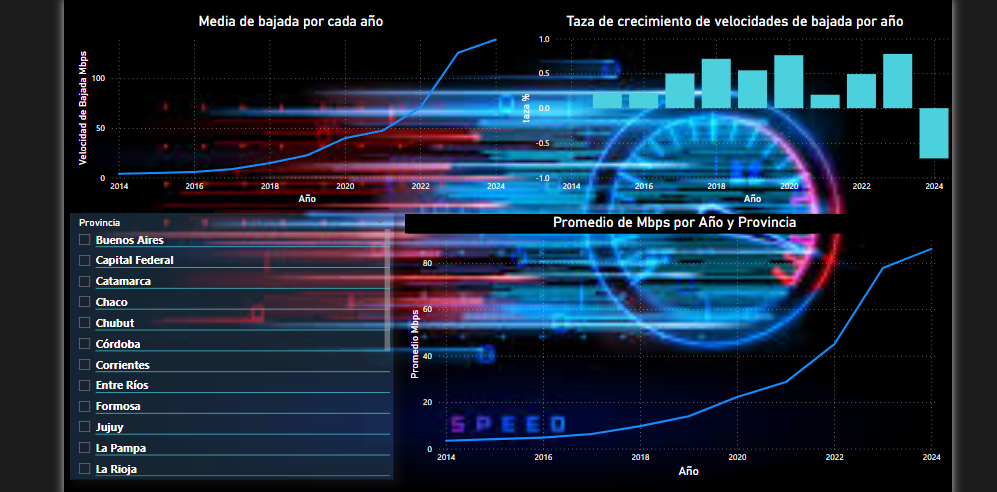

The page's visual inventory and layout, read from the dashboard file:
{"tool":"powerbi","page":{"name":"Velocidades","canvas":[1280,720],"ordinal":2},"visuals":[{"type":"lineChart","title":"Media de bajada por cada año","fields":{"Category":["Totales VMD.Año"],"Y":["Avg(Totales VMD.Mbps (Media de bajada))"]},"box":[13,20.9,627.3,280.2],"z":0},{"type":"clusteredColumnChart","title":"Taza de crecimiento de velocidades de bajada por año","fields":{"Category":["Totales VMD.Año"],"Y":["Totales VMD.taza_Vel"]},"box":[652.4,21.2,627.2,280.3],"z":1000},{"type":"slicer","fields":{"Values":["Velocidad % por prov.Provincia"]},"box":[8,310.1,465.7,383.9],"z":2000},{"type":"lineChart","title":"Promedio de Mbps por Año y Provincia","fields":{"Category":["Velocidad % por prov.Año"],"Y":["Avg(Velocidad % por prov.Mbps (Media de bajada))"]},"box":[491.1,310.6,776.5,384.2],"z":3000}]}

Visuals, with their boxes on the page's 1280x720 design canvas (x1, y1, x2, y2). These are canvas units, not pixel positions in the 997x492 screenshot, which may show the page scaled, cropped or inside an application window:
"Media de bajada por cada año" lineChart: left=13, top=21, right=640, bottom=301
"Taza de crecimiento de velocidades de bajada por año" clusteredColumnChart: left=652, top=21, right=1280, bottom=302
slicer - Velocidad % por prov.Provincia: left=8, top=310, right=474, bottom=694
"Promedio de Mbps por Año y Provincia" lineChart: left=491, top=311, right=1268, bottom=695
